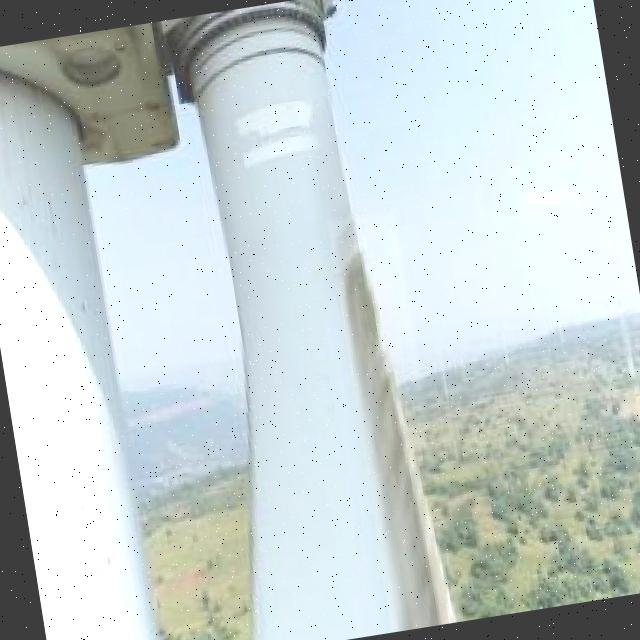Dirt: (340, 208, 453, 633)
